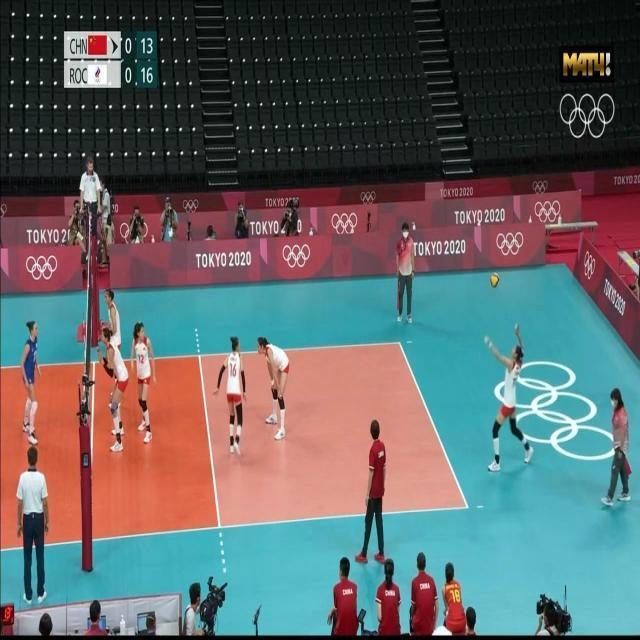volleyball: (490, 272, 500, 288)
